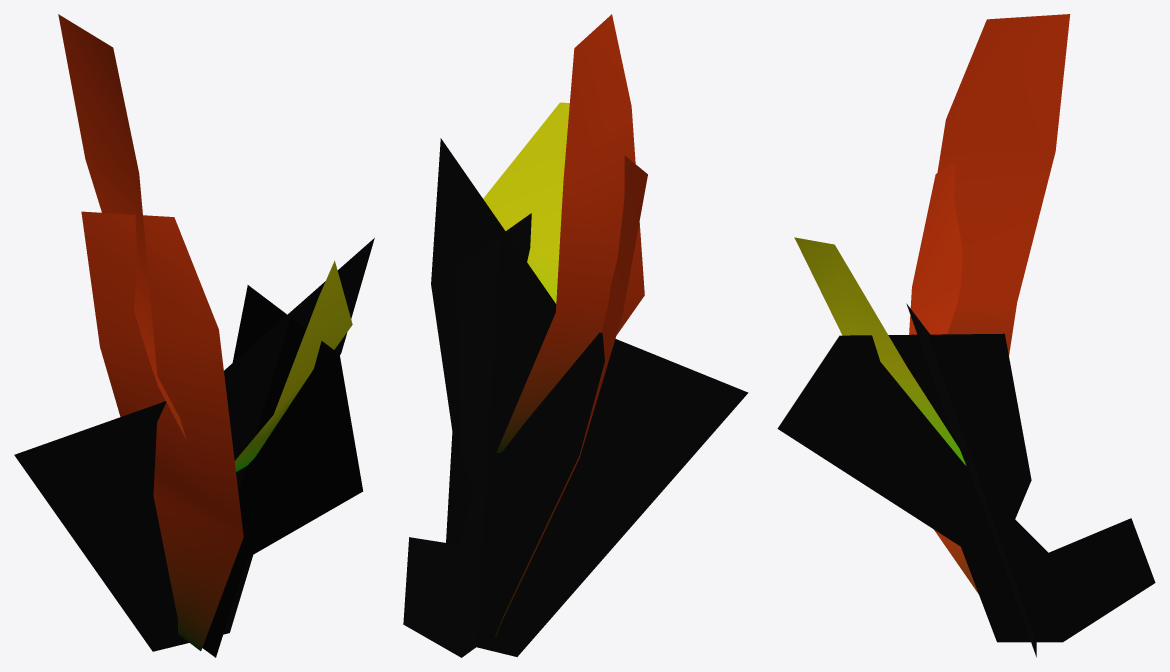
File: Seaweed_LOD1_Var5_sdpjN.fbx
3 renders of one model, left to right at view 1: azimuth 30°, elevation 25°; view 2: azimuth 150°, elevation 25°; view 3: azimuth 270°, elevation 25°, orthographic. The views are drawn at different scales.
Visible parts, largest first — view 1: merge1; view 2: merge1; view 3: merge1.
Part boxes in pixels (<box>): merge1: <box>14,14,374,657</box>; merge1: <box>403,14,748,657</box>; merge1: <box>777,14,1155,657</box>.
Bounding box in the file's own units: 10.46 × 19.19 × 11.39.
